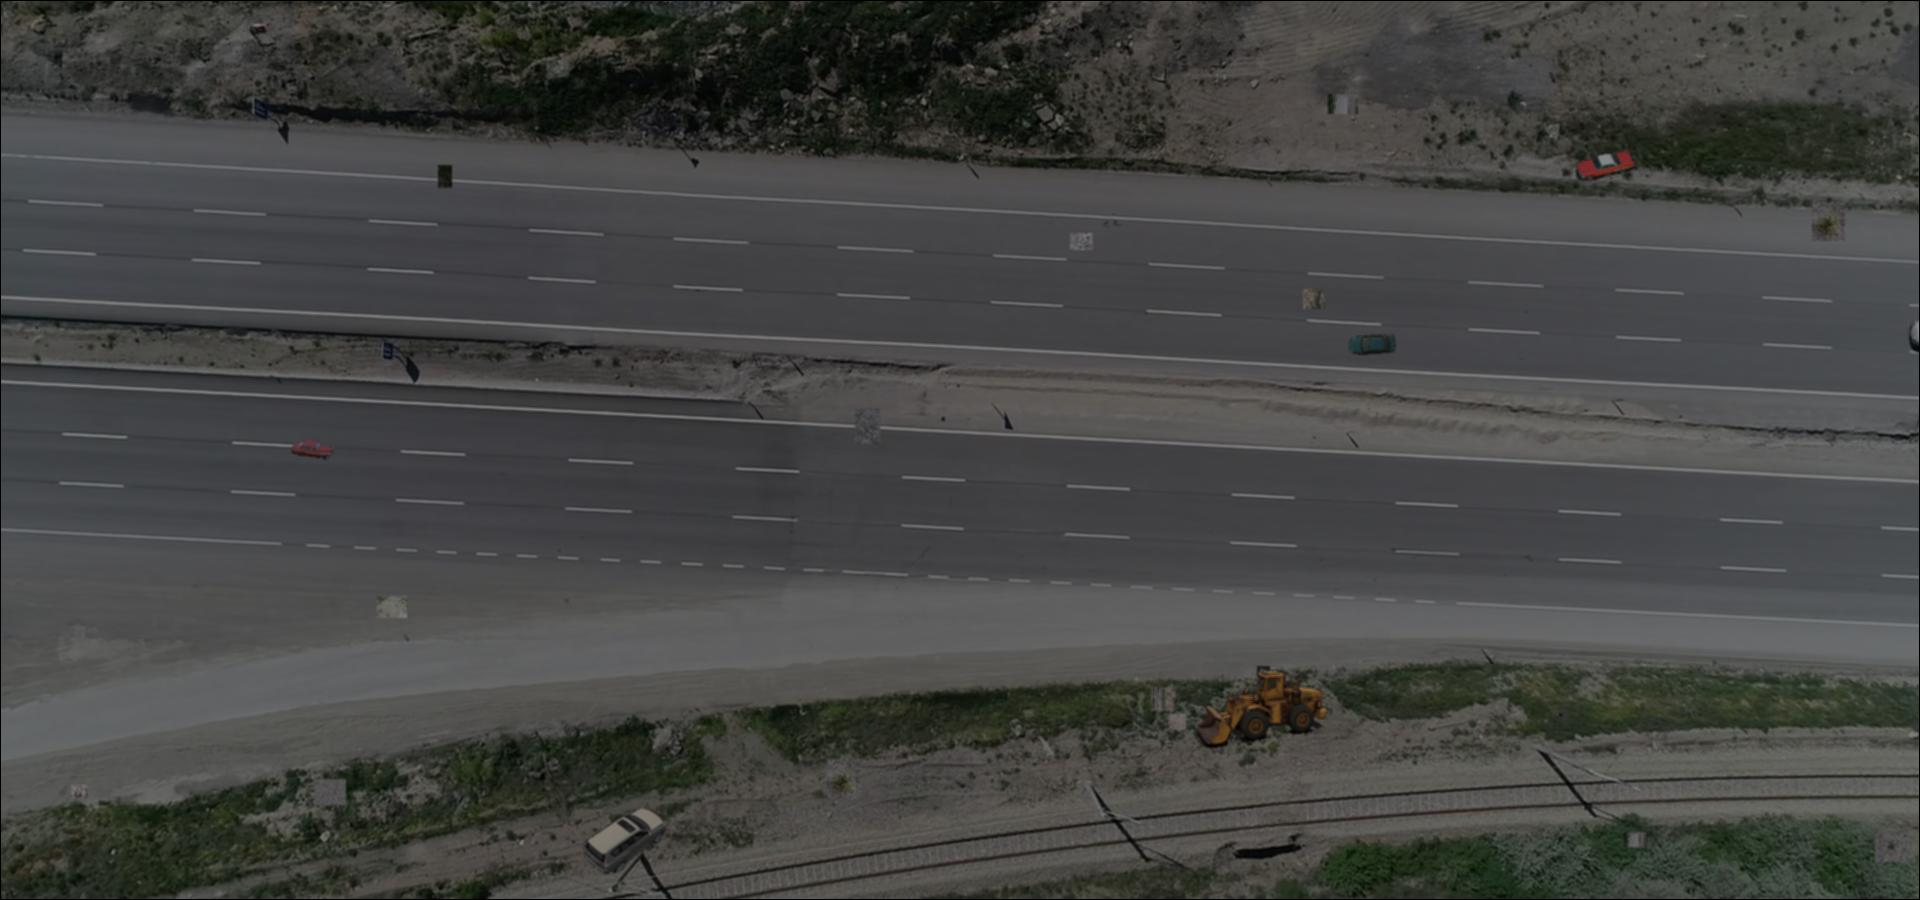arac: (1190, 660, 1332, 748), (582, 808, 669, 876), (1576, 149, 1636, 180), (1348, 334, 1397, 356), (289, 440, 334, 460), (249, 23, 277, 47)
